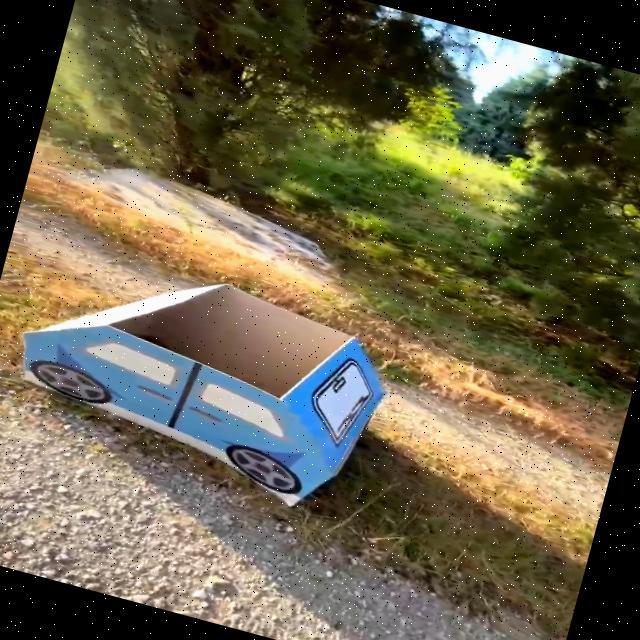blue_car: (0, 176, 482, 574)
